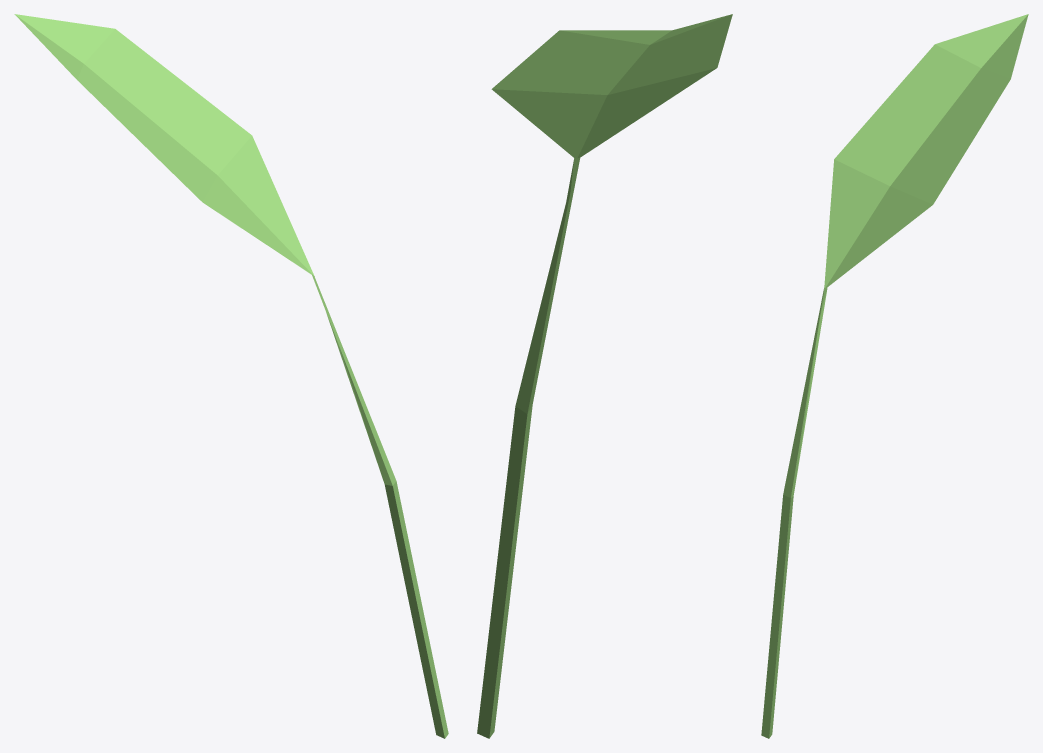
The model's file is Plant_j_OneS_01.fbx.
3 views of the same model, side by side, from view 1: azimuth 30°, elevation 25°; view 2: azimuth 150°, elevation 25°; view 3: azimuth 270°, elevation 25° (orthographic). The views are drawn at different scales.
Visible parts, largest first — view 1: Plant_j_OneS_01; view 2: Plant_j_OneS_01; view 3: Plant_j_OneS_01.
Part boxes in pixels (bbox=[...]): Plant_j_OneS_01: bbox=[14, 14, 448, 738]; Plant_j_OneS_01: bbox=[477, 14, 732, 738]; Plant_j_OneS_01: bbox=[761, 14, 1028, 738].
Bounding box in the file's own units: 0.2422 × 0.5498 × 0.2215.
